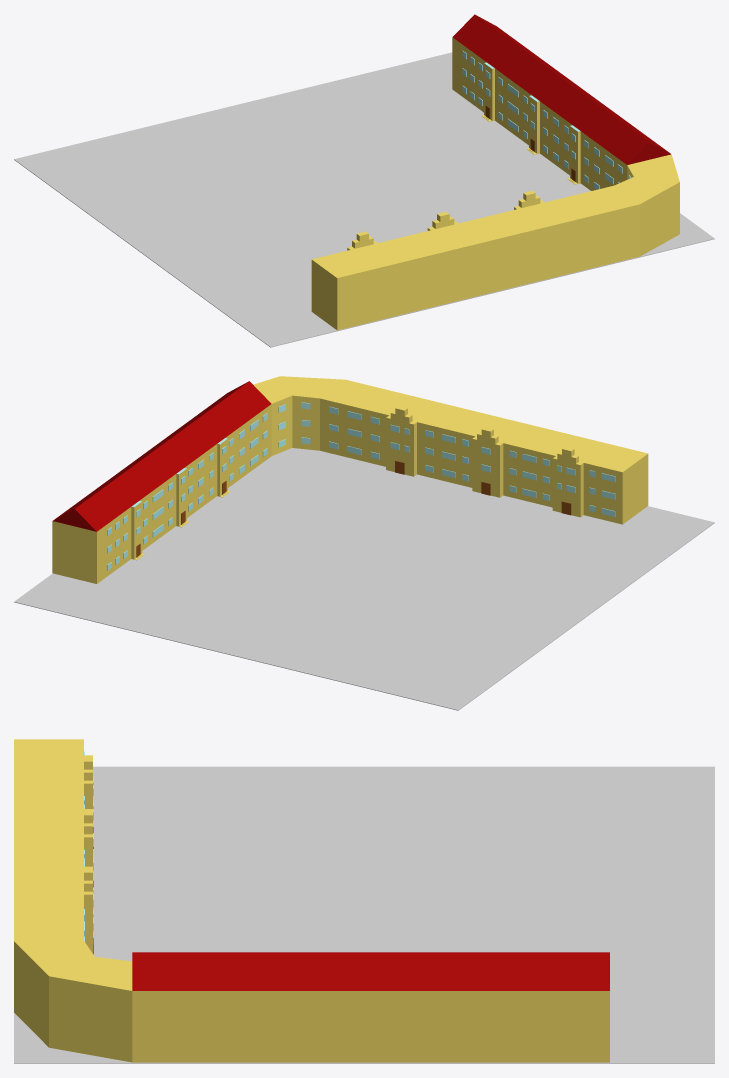
Rendered from church_house_L.fbx.
3 renders of one model, top to bottom at view 1: azimuth 30°, elevation 25°; view 2: azimuth 150°, elevation 25°; view 3: azimuth 270°, elevation 25°, orthographic. The views are drawn at different scales.
Visible parts, largest first — view 1: Place, House_L; view 2: Place, House_L; view 3: Place, House_L.
Part boxes in pixels (x1,y1,x2,y2): Place: [14, 52, 714, 347]; House_L: [311, 14, 679, 330]; Place: [14, 448, 714, 710]; House_L: [52, 376, 648, 583]; Place: [14, 766, 714, 1063]; House_L: [14, 739, 609, 1062].
Size of the model in its own units: 12000 by 1823 by 12000.
